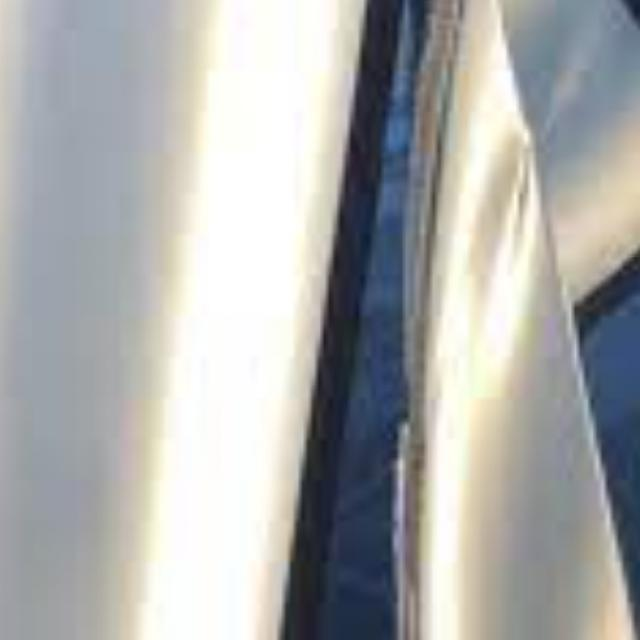dents: (471, 112, 549, 328)
